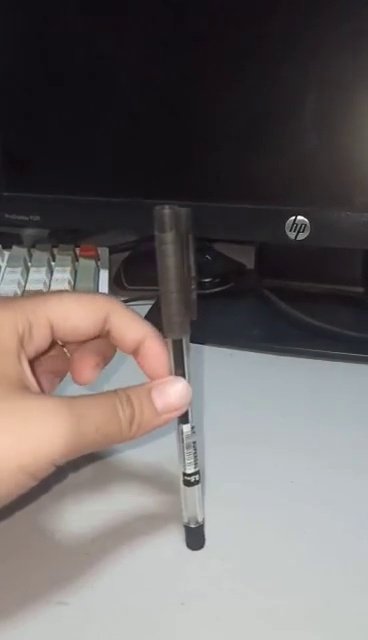ballpen: (149, 202, 208, 552)
hand: (1, 295, 191, 509)
